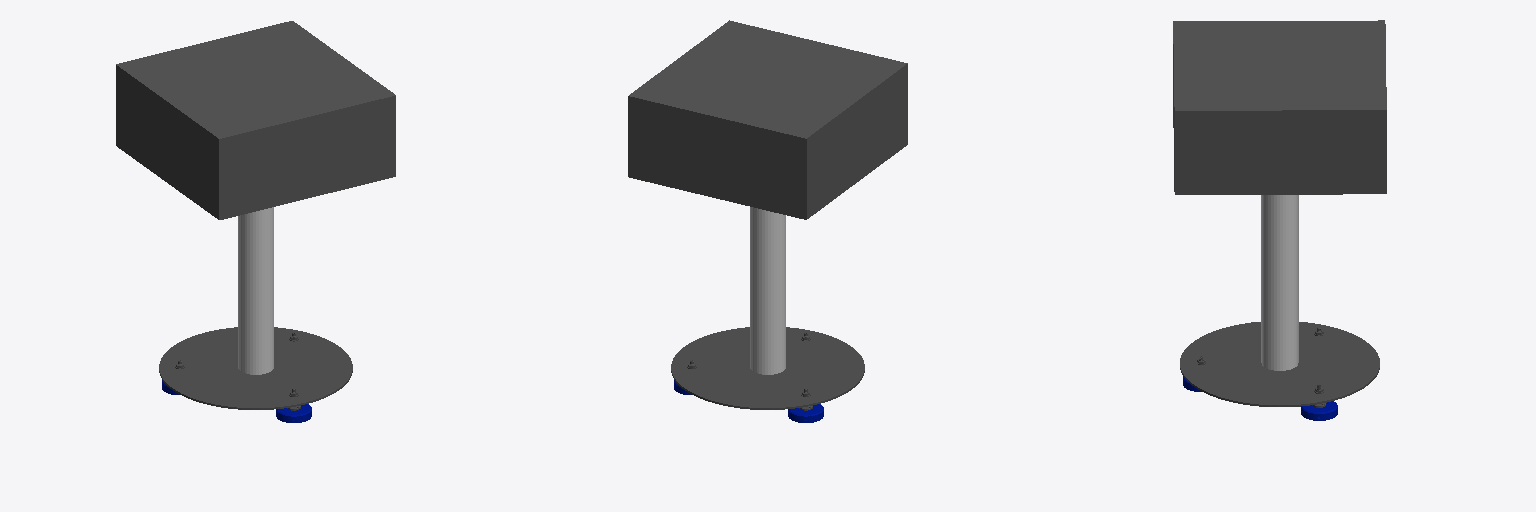
robot.urdf — spacecraft-simulator:
<?xml version="1.0"?>
<robot name="spacecraft-simulator">
  <link name="base_footprint">
    <visual>
      <origin xyz="0 0 0" rpy="0 0 0"/>
      <geometry>
        <box size="0.001 0.001 0.001"/>
      </geometry>
    </visual>
  </link>

  <joint name="base_link_anchor" type="fixed">
    <origin xyz="0 0 0.25" rpy="0 0 0"/>
    <parent link="base_footprint"/>
    <child link="base_link"/>
  </joint>

  <link name="base_link">
    <inertial>
      <!-- should spawn 0.25 m off the ground to account for blackroom floor thickness. -->
      <mass value="15"/>
      <origin xyz="0 0 -0.25"/>
      <inertia ixx="27.60" iyy="3.36" izz="28.06"
               ixy="-5.21" ixz="0.86" iyz="-4.00"/>
    </inertial>
    <visual>
      <geometry>
        <!-- <box size="0.6 0.3 0.3"/> -->
        <mesh filename="package://spacecraft_simulator_description/meshes/spacecraft-simulator-simple.dae"/>
      </geometry>
    </visual>
    <collision>
      <origin xyz="0 0 0"/>
      <geometry>
        <!-- <box size="0.46 0.46 0.76"/> -->
        <mesh filename="package://spacecraft_simulator_description/meshes/spacecraft-simulator-simple.dae"/>
      </geometry>
      <surface>
        <contact>
          <ode>
            <min_depth>0.0</min_depth>
            <max_vel>0.5</max_vel>
          </ode>
        </contact>
        <friction>
          <ode>
            <mu>0.0</mu>
            <mu2>0.0</mu2>
          </ode>
        </friction>
      </surface>
    </collision>
  </link>

  <gazebo>
    <plugin name="object_controller" filename="libgazebo_ros_planar_move.so">
      <commandTopic>cmd_vel</commandTopic>
      <odometryTopic>odom</odometryTopic>
      <odometryFrame>odom</odometryFrame>
      <odometryRate>20.0</odometryRate>
      <robotBaseFrame>base_footprint</robotBaseFrame>
    </plugin>
  </gazebo>
</robot>

--- Facts derived from the render (not from the file) ---
Views: 3 orthographic renders of the robot side by side, from view 1: azimuth 30°, elevation 25°; view 2: azimuth 150°, elevation 25°; view 3: azimuth 270°, elevation 25°.
Robot: spacecraft-simulator — 2 links, 1 joints (1 fixed); root link base_footprint; default pose: all joints at 0.
Links seen in each view (by area): view 1: base_link; view 2: base_link; view 3: base_link.
Boxes of the visible links, x1,y1,x2,y2 form: base_link: (116, 21, 395, 422); base_link: (628, 20, 907, 422); base_link: (1173, 20, 1386, 420).
Size in the robot's own frame: 0.4602 by 0.4602 by 1.01 metres.
Meshes: 1 distinct files referenced, 1 mesh visuals loaded (1 Collada DAE).
